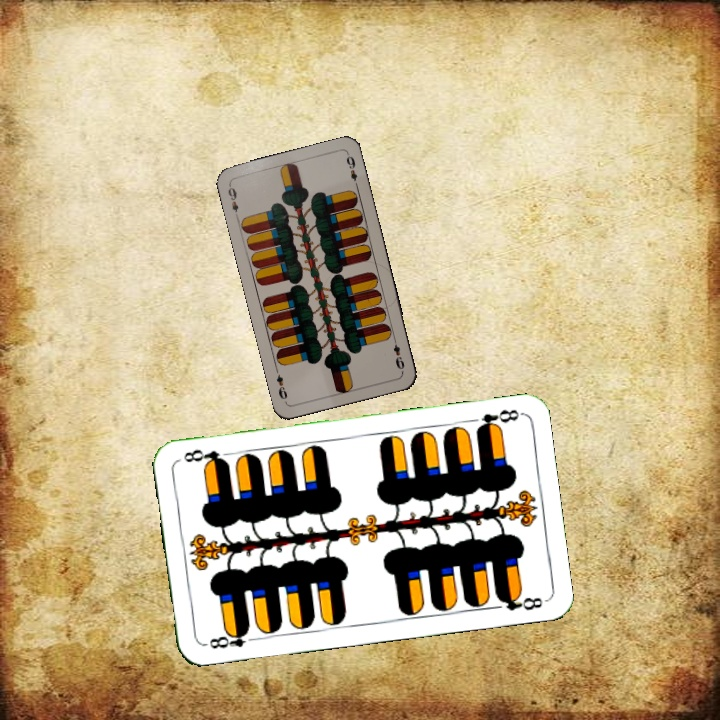E8: (205, 624, 260, 652), (472, 405, 523, 434)
E9: (389, 334, 407, 372), (224, 181, 241, 221)
